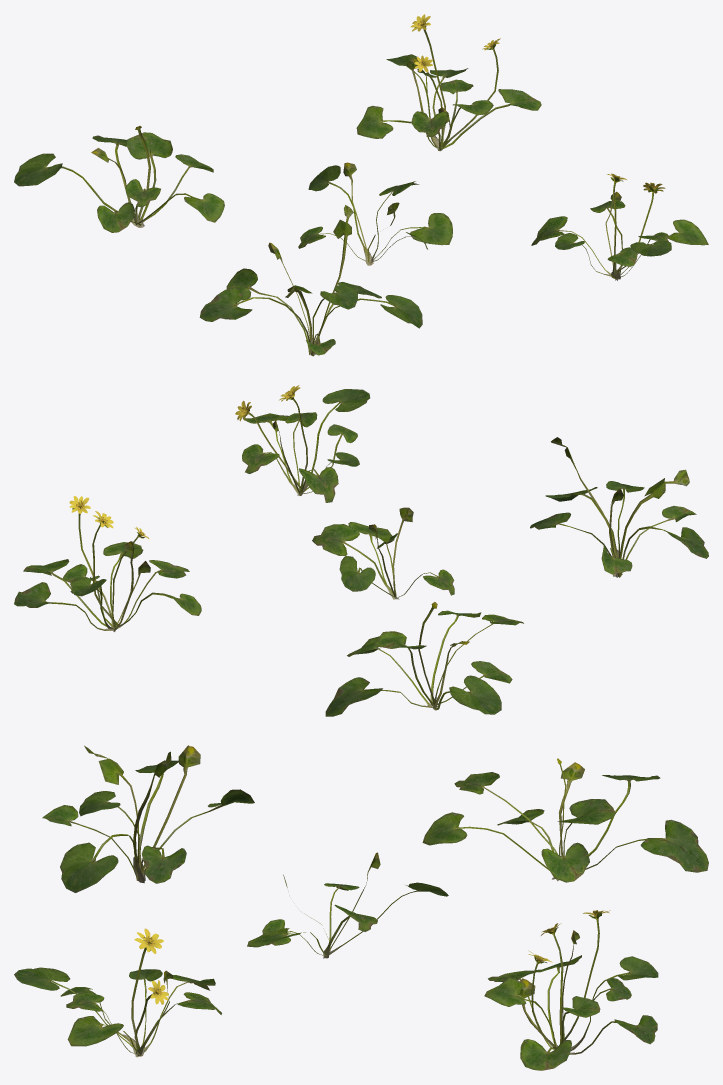
File: Florecitas.glb
3 views of the same model, one above another, from view 1: azimuth 30°, elevation 25°; view 2: azimuth 150°, elevation 25°; view 3: azimuth 270°, elevation 25° (orthographic). The views are drawn at different scales.
Visible parts, largest first — view 1: celandine_01_e_LOD0; view 2: celandine_01_e_LOD0; view 3: celandine_01_e_LOD0.
Part boxes in pixels (<box>): celandine_01_e_LOD0: <box>14,14,708,356</box>; celandine_01_e_LOD0: <box>14,385,708,716</box>; celandine_01_e_LOD0: <box>14,745,708,1070</box>.
Size of the model in its own units: 0.7318 by 0.1859 by 0.744.
Materials: 1 (1 with a texture image).
